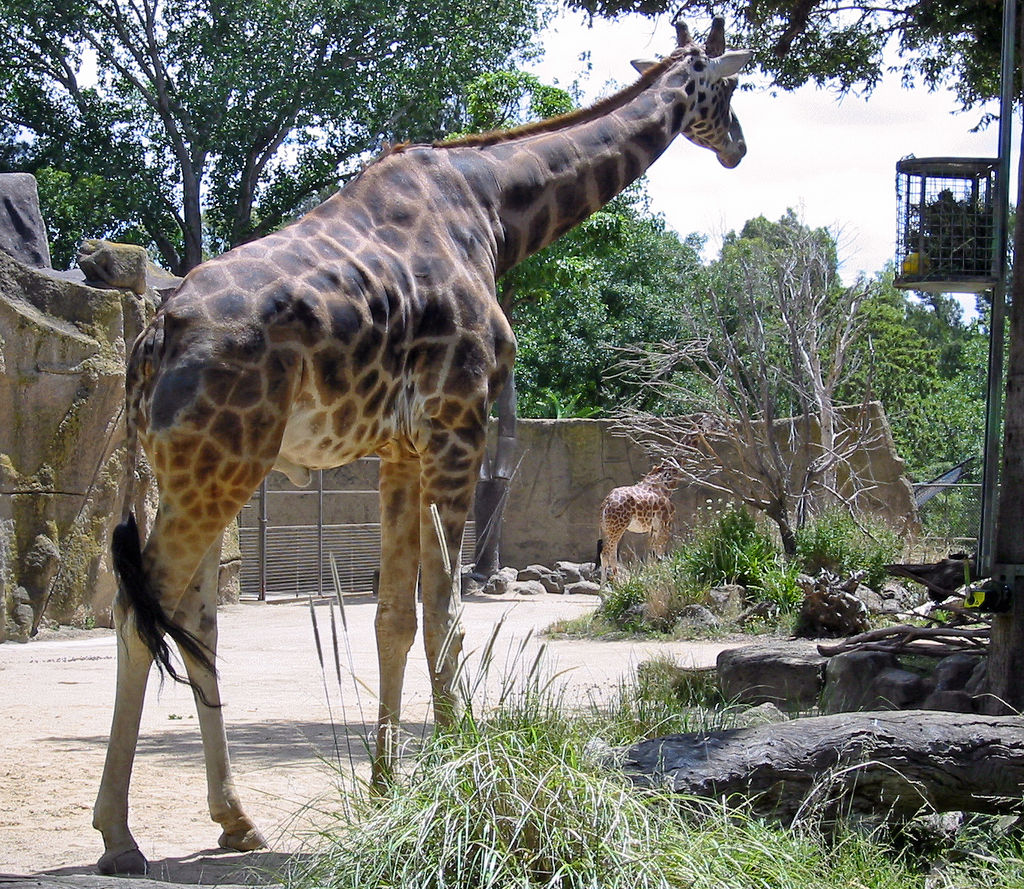giraffe: (88, 18, 800, 874)
